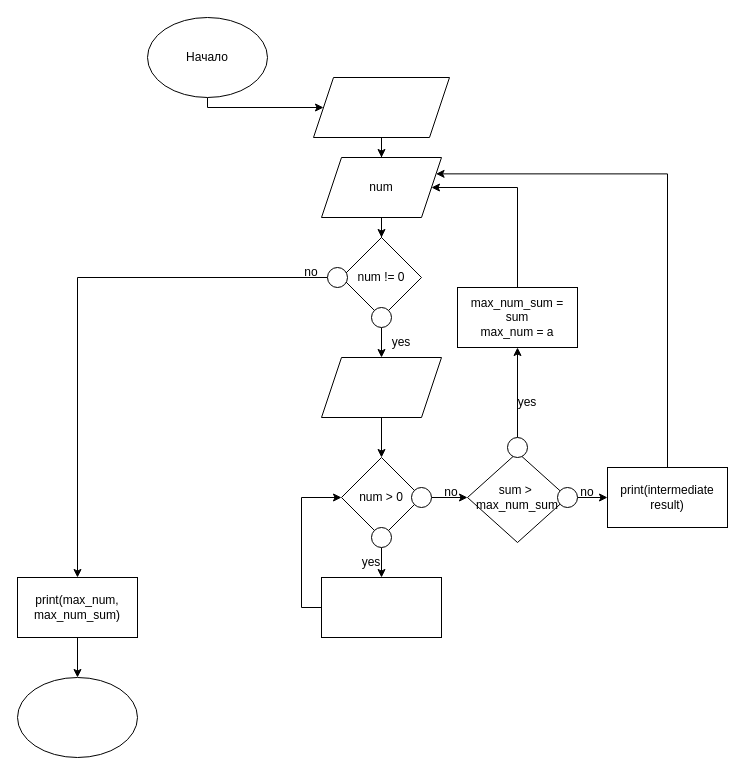
Some shapes in this 745 by 775 pixel diagram are drawn without their labels. Each missing label, with the centre of its shape:
a = num sum = 0: the point at 381,387
max_num = 0 max_num_sum = 0: the point at 381,107
sum += num % 10 num //= 10: the point at 381,607
Конец: the point at 77,717
